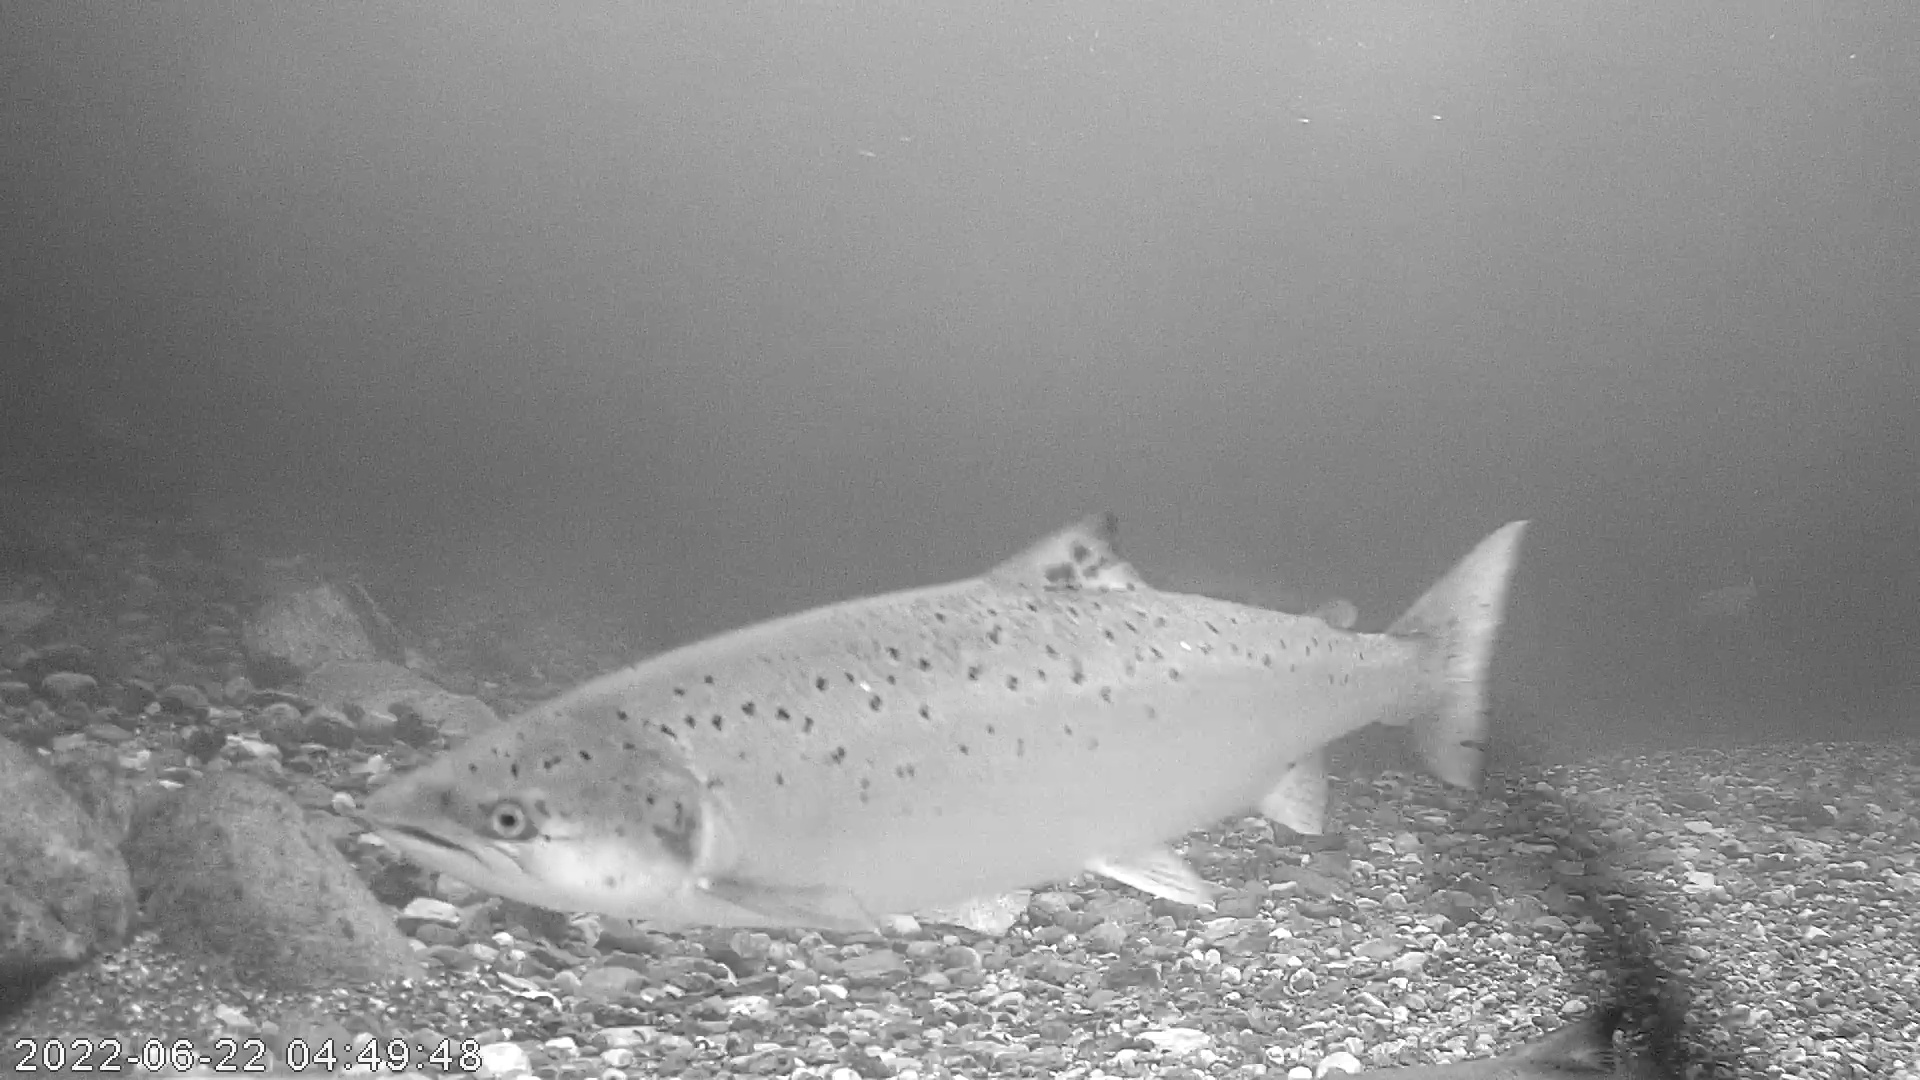salmon: (357, 509, 1535, 935)
